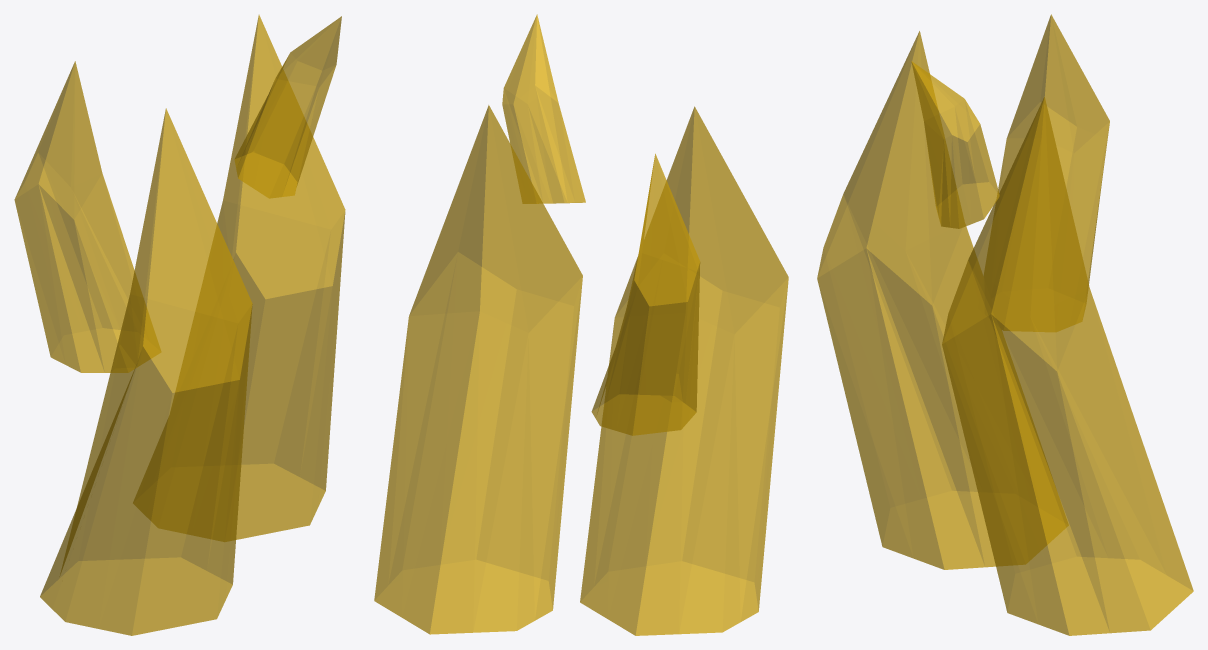
Rendered from fireMiddle.dae.
The picture shows the model from 3 angles, left to right: view 1: azimuth 30°, elevation 25°; view 2: azimuth 150°, elevation 25°; view 3: azimuth 270°, elevation 25°; orthographic projection. The views are drawn at different scales.
Parts seen in each view (by area): view 1: yFlame1, yFlame2, yFlame3, yFlame4; view 2: yFlame2, yFlame1, yFlame3, yFlame4; view 3: yFlame2, yFlame1, yFlame3, yFlame4.
Boxes of the visible parts, x1,y1,x2,y2 form: yFlame1: (40,108,252,635); yFlame2: (133,14,345,541); yFlame3: (14,61,160,372); yFlame4: (234,16,341,198); yFlame2: (374,105,582,634); yFlame1: (580,106,788,635); yFlame3: (591,153,700,435); yFlame4: (502,14,585,203); yFlame2: (942,97,1193,635); yFlame1: (817,31,1068,569); yFlame3: (984,14,1109,331); yFlame4: (911,61,999,228).
Bounding box in the file's own units: 0.8174 × 0.8408 × 1.36.
